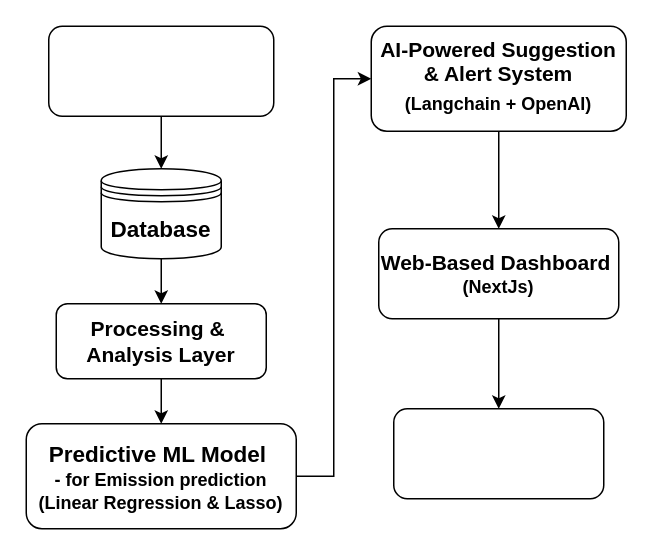
The diagram is 653 pixels wide and 555 high, and some of its shapes have lost their labels. The centre of each missing label's shape, as x and y in pixels:
"Data Ingestion Layer (IoT sensors System)" belongs at (160,70).
"Deployment & Infrastructure" belongs at (498,453).
